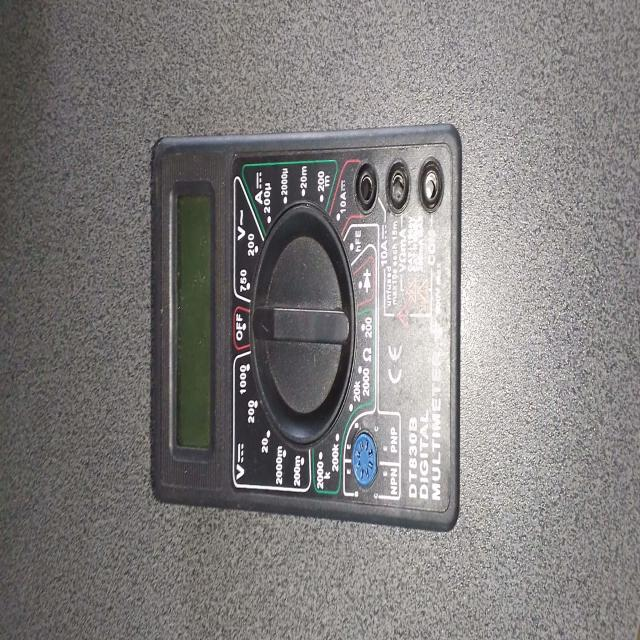Digital Multimeter: (140, 121, 468, 548)
